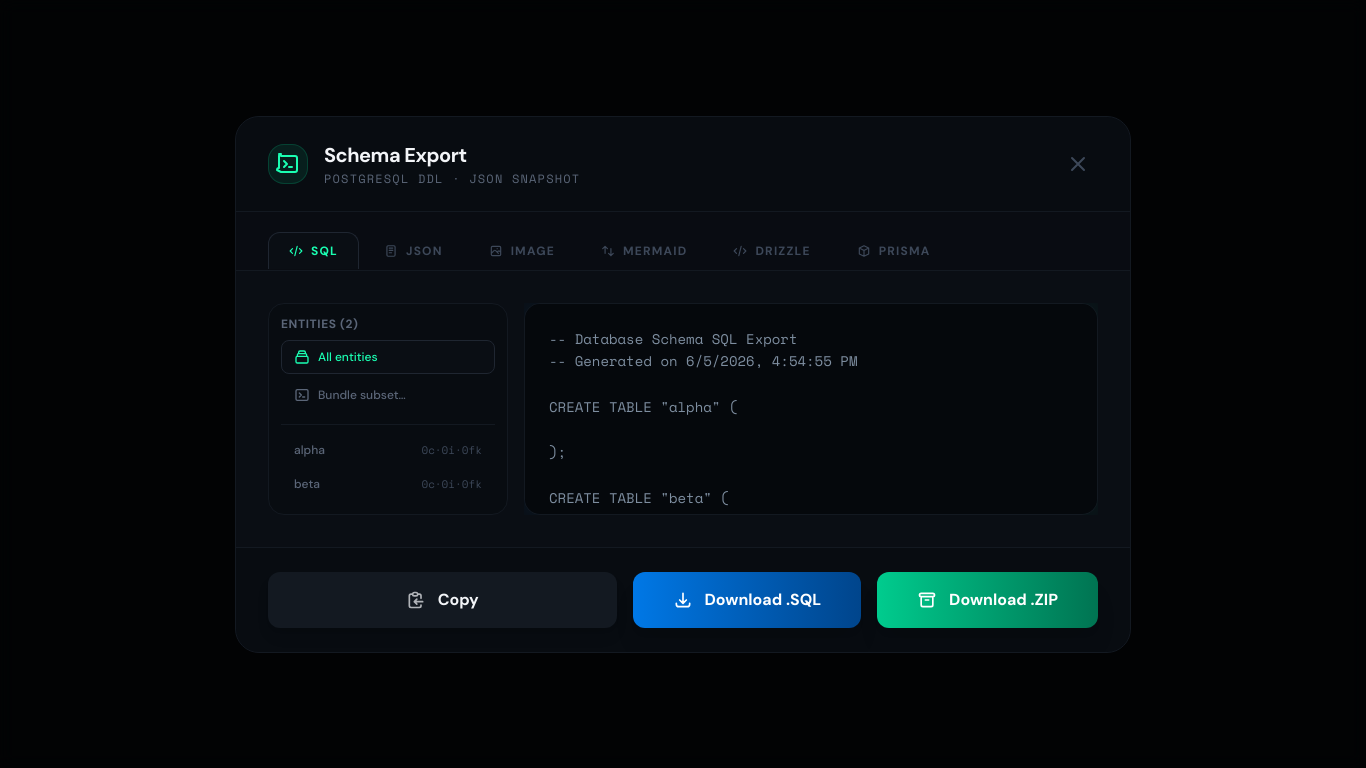
Test case: ExportModal.vue › shows placeholder when bundle mode has 0 entities checked
Click the option with test id "sidebar-row-bundle" at x=350, y=394, box [294,386,406,402]
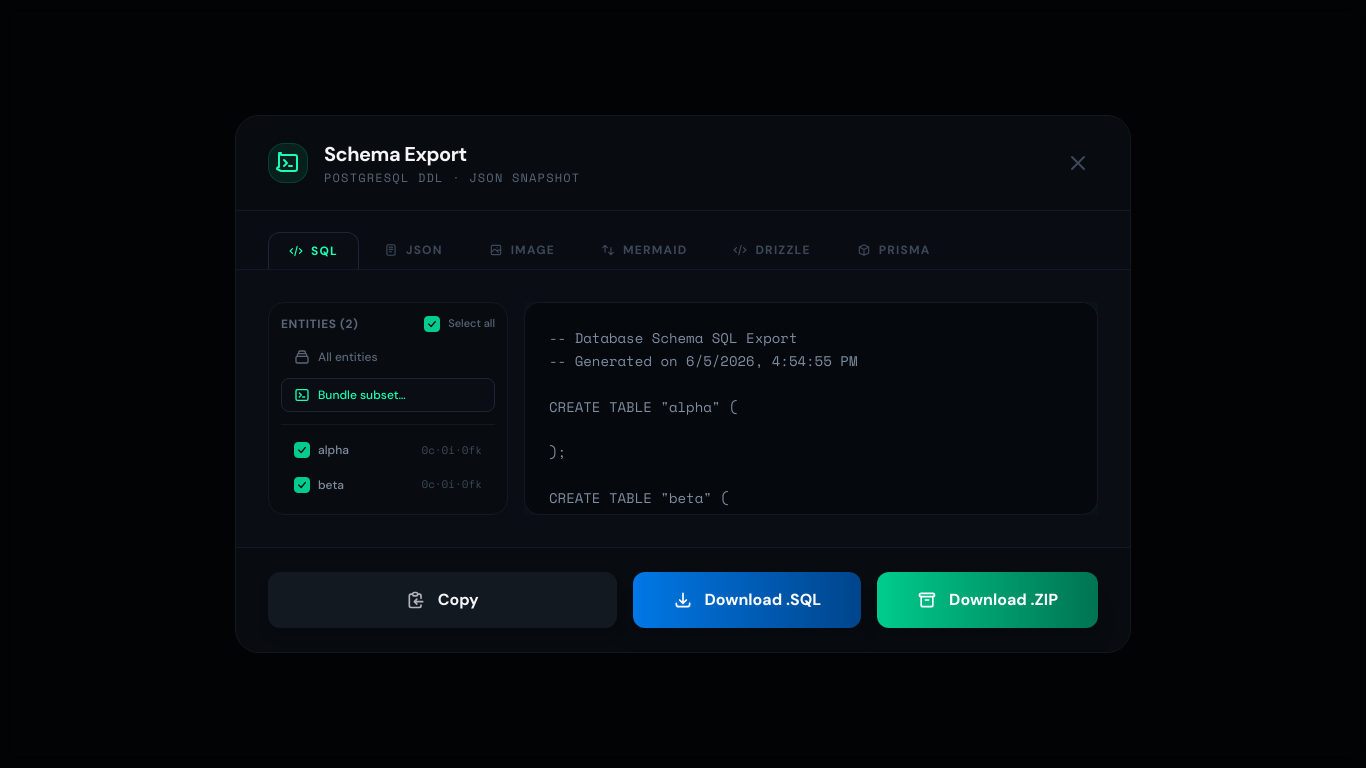
Uncheck all via select-all checkbox
Click the element with test id "sidebar-checkbox-selectall" at x=460, y=324, box [424,315,495,332]
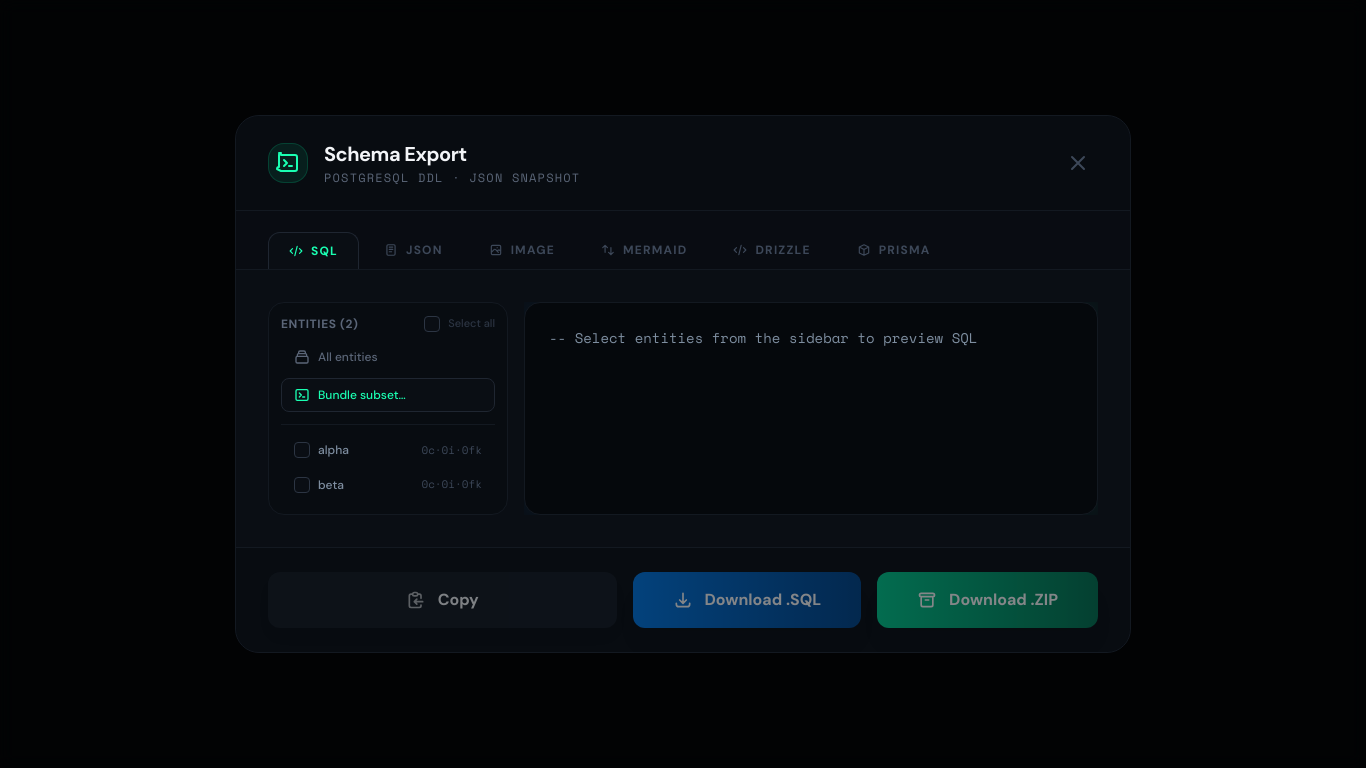
Now the text box named "Generated SQL Code" holds "-- Select entities from the sidebar to preview SQL", box [524,302,1098,515]
